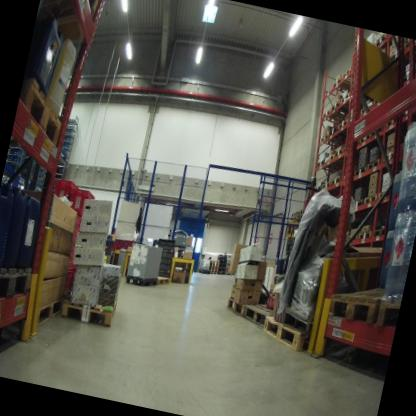pallet: (17, 71, 75, 155), (326, 266, 396, 330), (57, 279, 123, 336), (259, 311, 334, 357), (0, 248, 43, 315), (31, 281, 71, 341), (280, 297, 327, 339), (240, 297, 279, 336), (38, 0, 104, 23), (373, 282, 403, 331), (338, 66, 363, 111), (329, 75, 370, 101), (223, 291, 256, 322), (325, 95, 354, 120), (126, 270, 159, 291), (317, 131, 346, 150), (320, 108, 347, 128), (378, 145, 400, 169), (394, 66, 415, 90), (369, 33, 394, 53), (327, 122, 351, 142), (397, 40, 416, 63), (334, 115, 354, 136), (153, 272, 172, 293), (328, 170, 344, 194), (364, 153, 382, 174), (356, 225, 373, 243), (371, 224, 387, 242), (352, 160, 367, 179), (323, 148, 337, 168), (362, 189, 378, 206), (350, 196, 365, 214), (384, 113, 399, 129), (103, 231, 118, 247), (346, 227, 359, 245), (369, 125, 384, 140), (376, 187, 393, 200), (318, 177, 331, 194), (335, 143, 347, 159), (312, 156, 324, 172), (310, 182, 322, 195), (208, 271, 223, 281), (360, 132, 369, 145), (297, 205, 308, 215), (389, 51, 398, 61), (289, 213, 298, 222), (207, 265, 220, 271), (290, 208, 299, 216), (284, 246, 293, 254), (284, 236, 295, 242), (285, 241, 294, 248), (211, 258, 220, 264), (210, 260, 220, 265), (300, 212, 306, 220), (207, 263, 219, 267), (209, 269, 219, 273)
